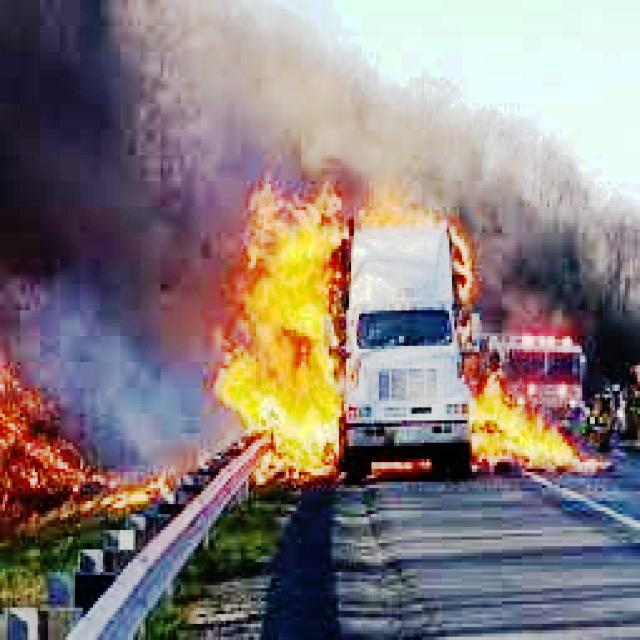api: (215, 185, 363, 486), (4, 376, 179, 515), (453, 373, 626, 476), (355, 179, 450, 240)
